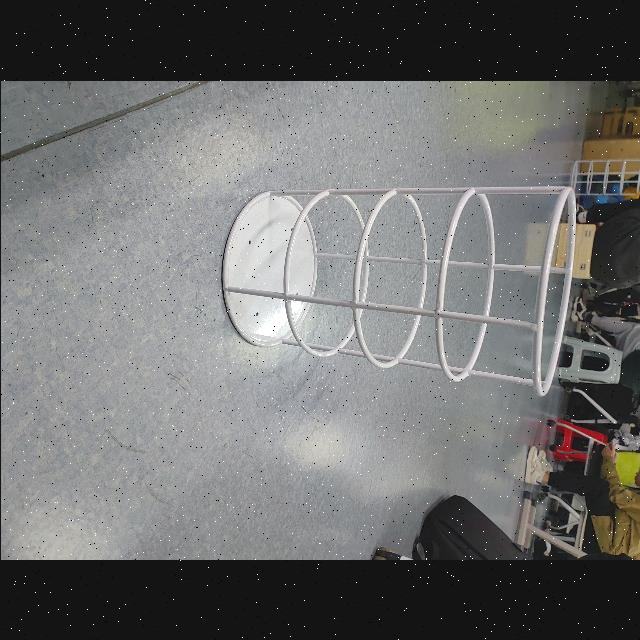S: (215, 179, 581, 401)
